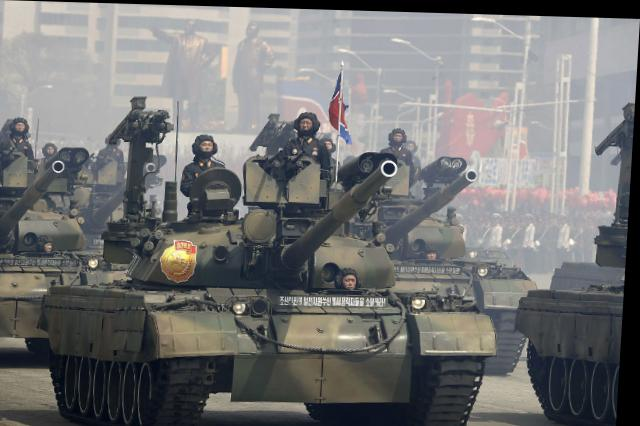other: (273, 101, 329, 176), (364, 117, 441, 161), (182, 121, 234, 185), (0, 109, 41, 172)
tank: (43, 173, 503, 424), (0, 136, 110, 351), (529, 205, 630, 424)
